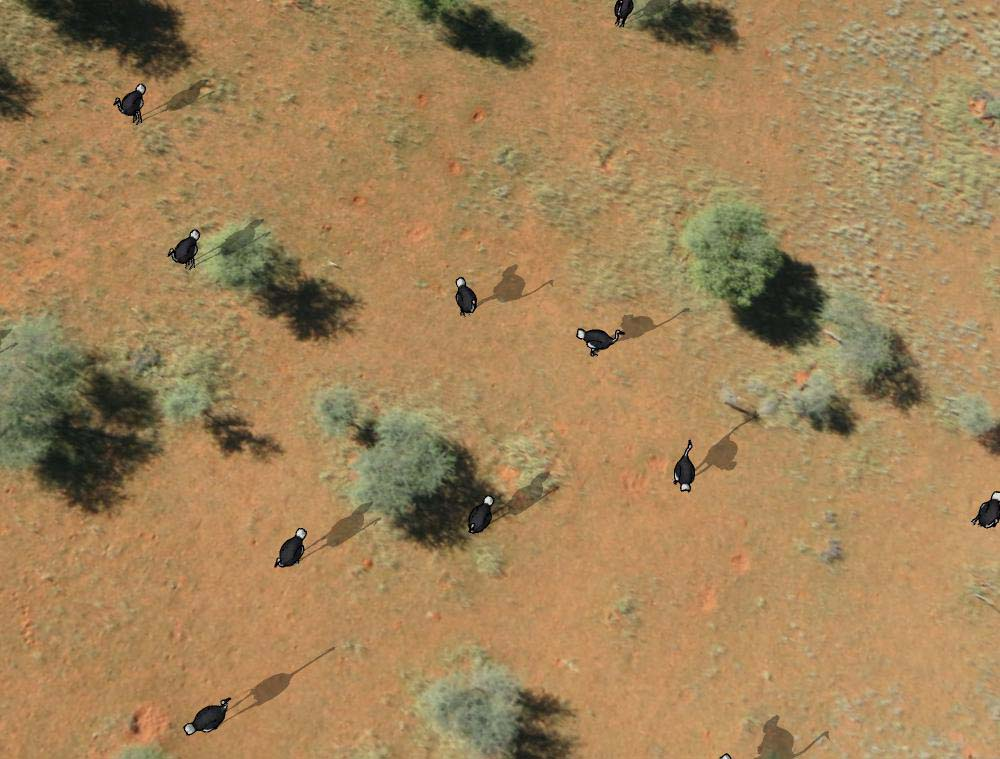springbok: (272, 524, 313, 576), (181, 696, 231, 735), (444, 276, 487, 321), (665, 438, 698, 495), (111, 85, 153, 128), (576, 322, 625, 357), (165, 226, 204, 269), (970, 489, 1000, 537), (463, 494, 496, 535), (611, 1, 634, 30)
